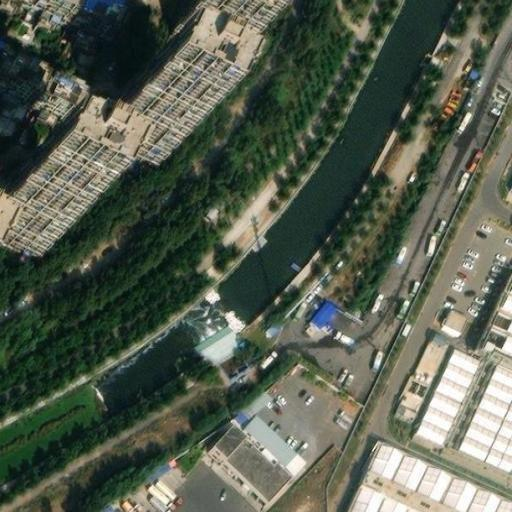building: (345, 446, 512, 512), (412, 337, 482, 438), (455, 353, 512, 467), (97, 93, 177, 157), (391, 328, 450, 413), (224, 426, 293, 496), (0, 53, 70, 108), (195, 0, 273, 49), (479, 266, 512, 348), (245, 406, 296, 459), (46, 0, 115, 26), (211, 414, 248, 451), (328, 299, 365, 335), (138, 475, 175, 511), (434, 303, 467, 336), (312, 293, 339, 321), (282, 447, 306, 471), (90, 494, 122, 512)
